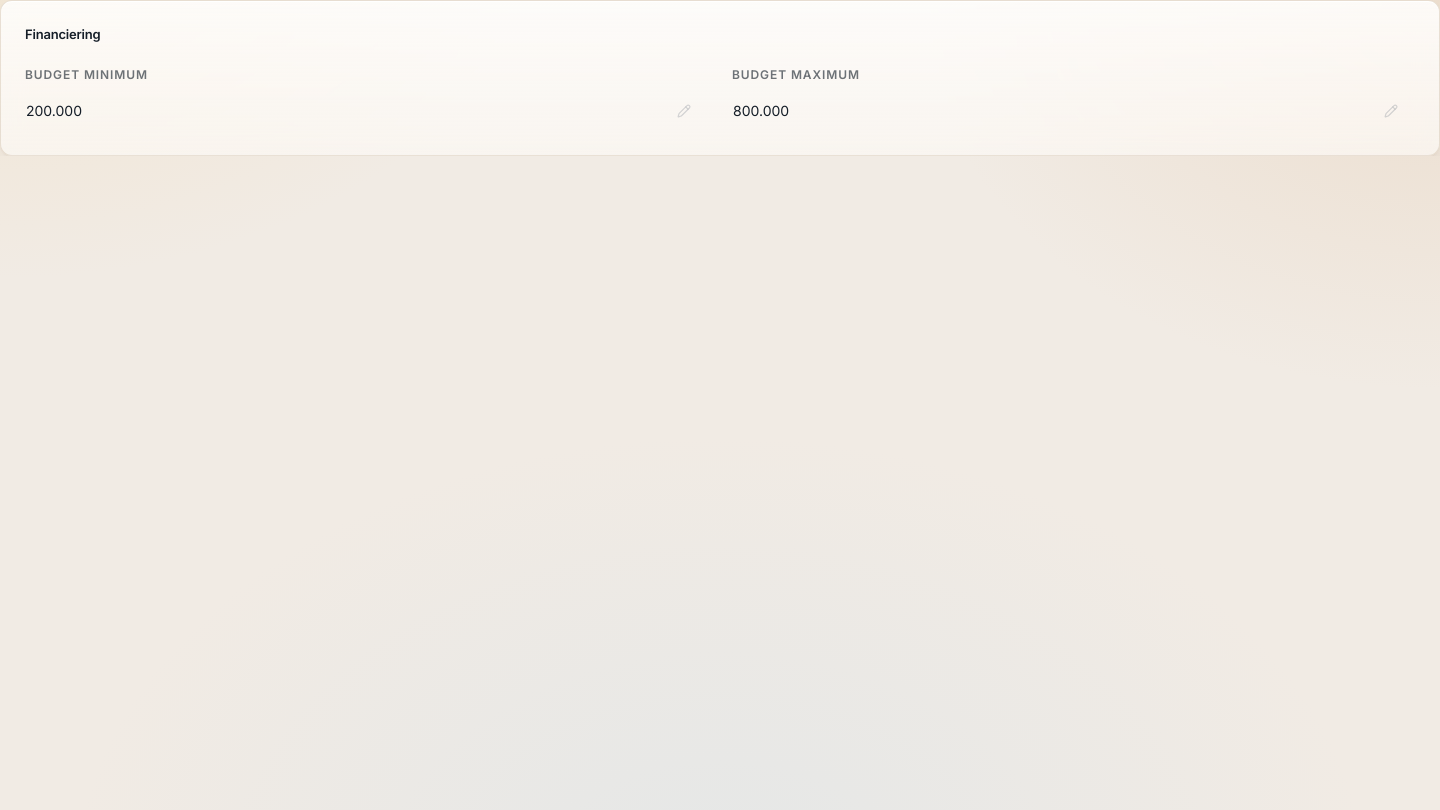
Test: Direct bewerken Relaties: klik op afzonderlijke veldwaarde › vereist expliciete bevestiging voordat een bestaand budget wordt gewist
The width and height of the screenshot is (1440, 810).
Later steps or results of the test are not shown.
Click the button named "Wijzig Budget minimum" at (54,110), box [17,90,700,130]
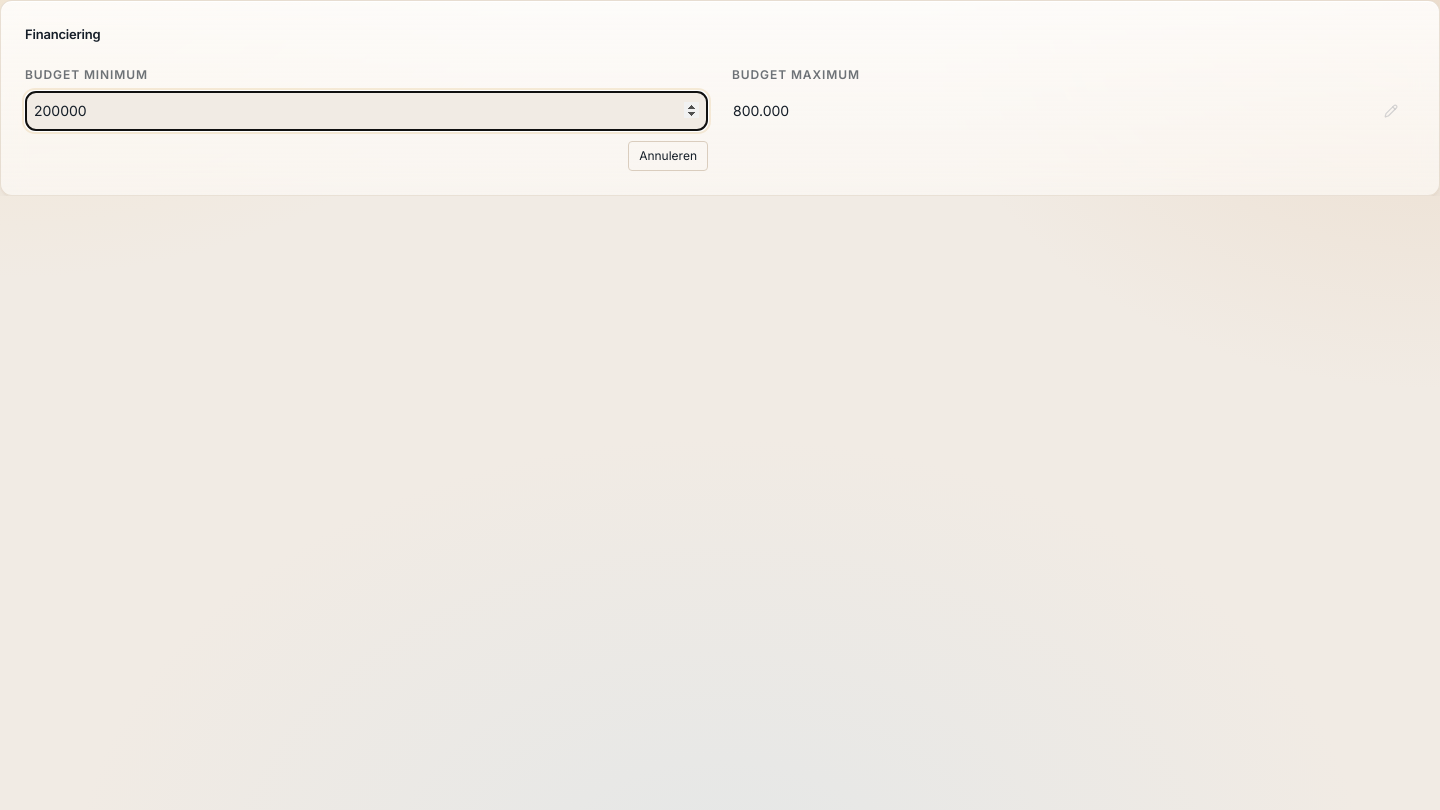
Clear the number field labelled "Budget minimum" at (366,110), box [25,90,708,130]
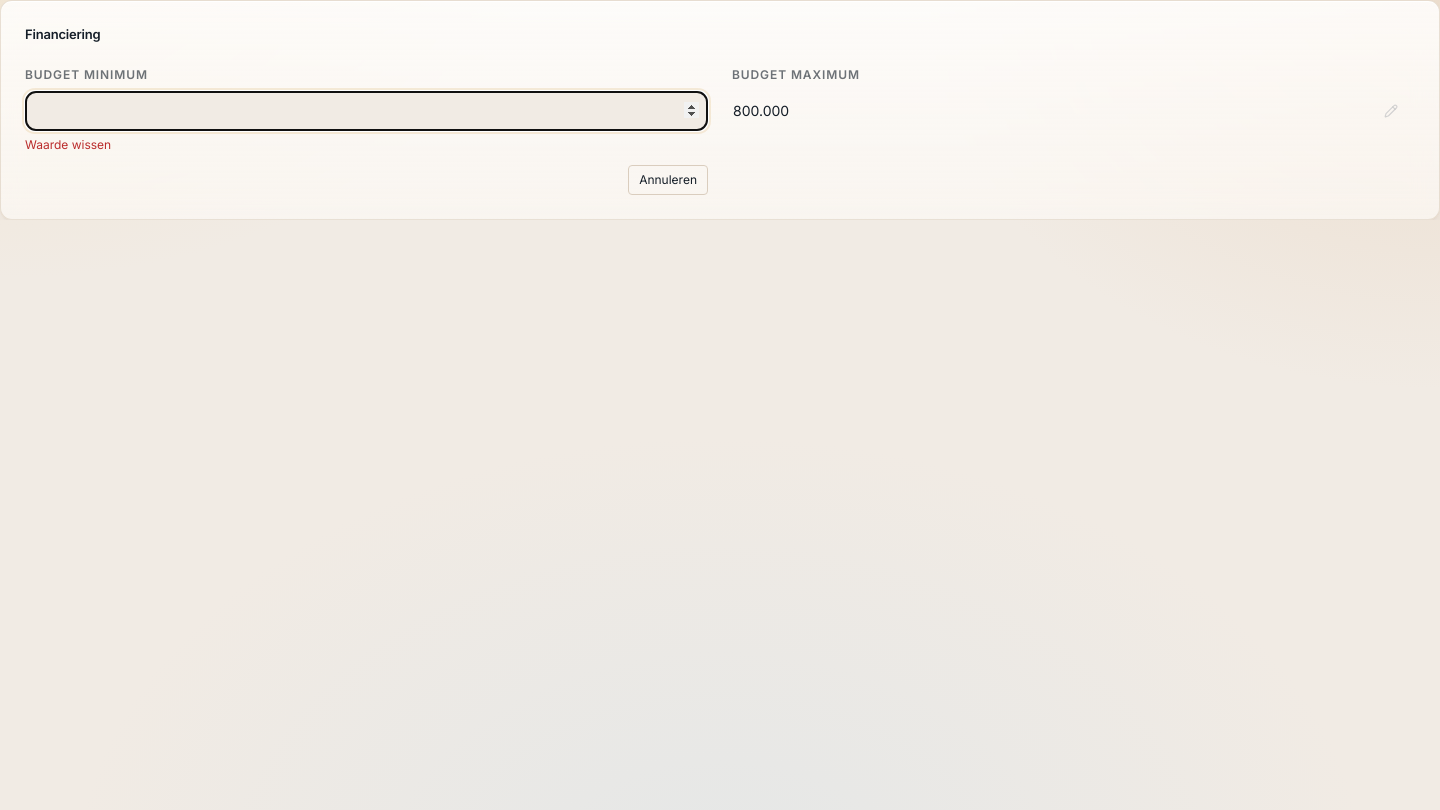
Press Enter in the number field labelled "Budget minimum", box [25,90,708,130]
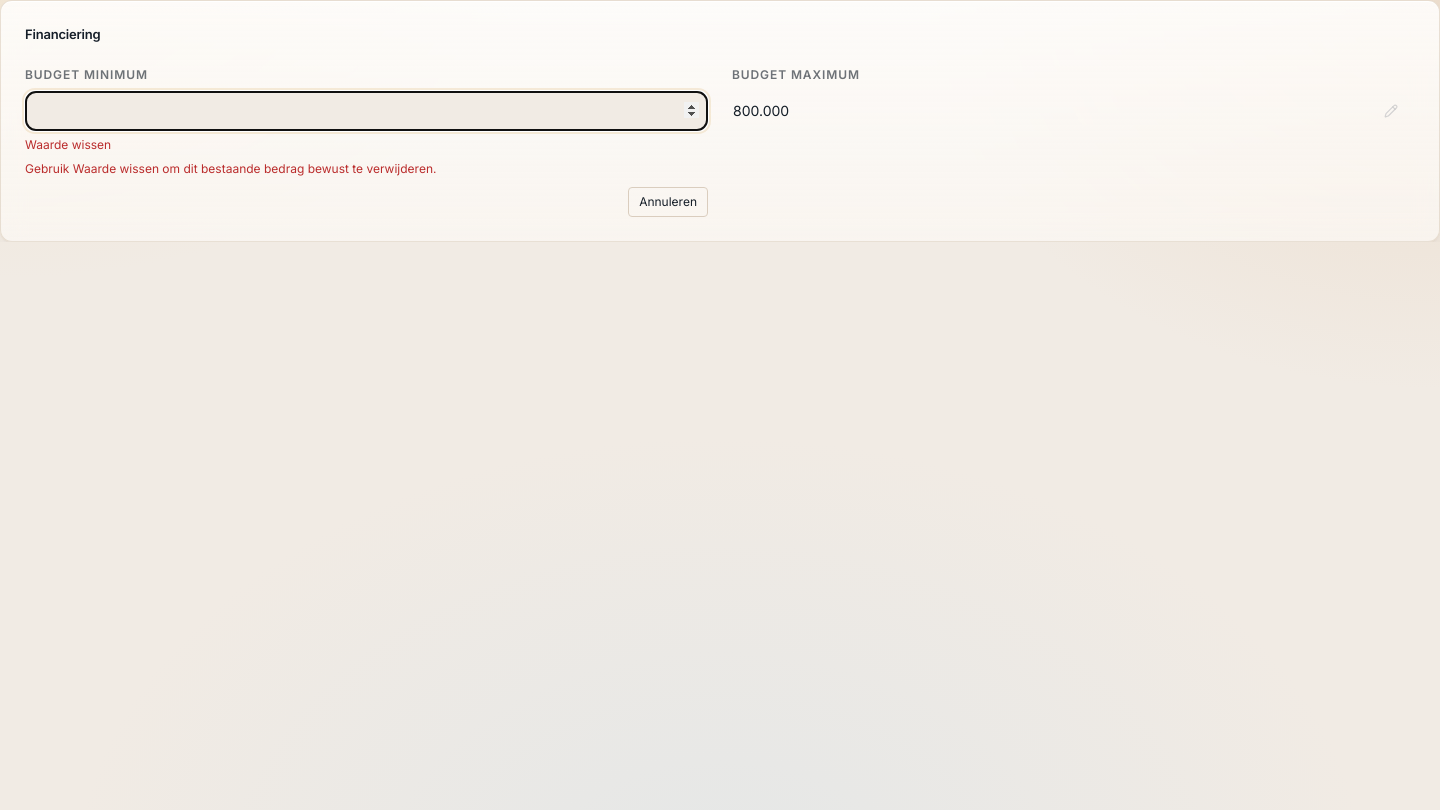
Check: the message shows "Waarde wissen", box [25,160,436,176]
